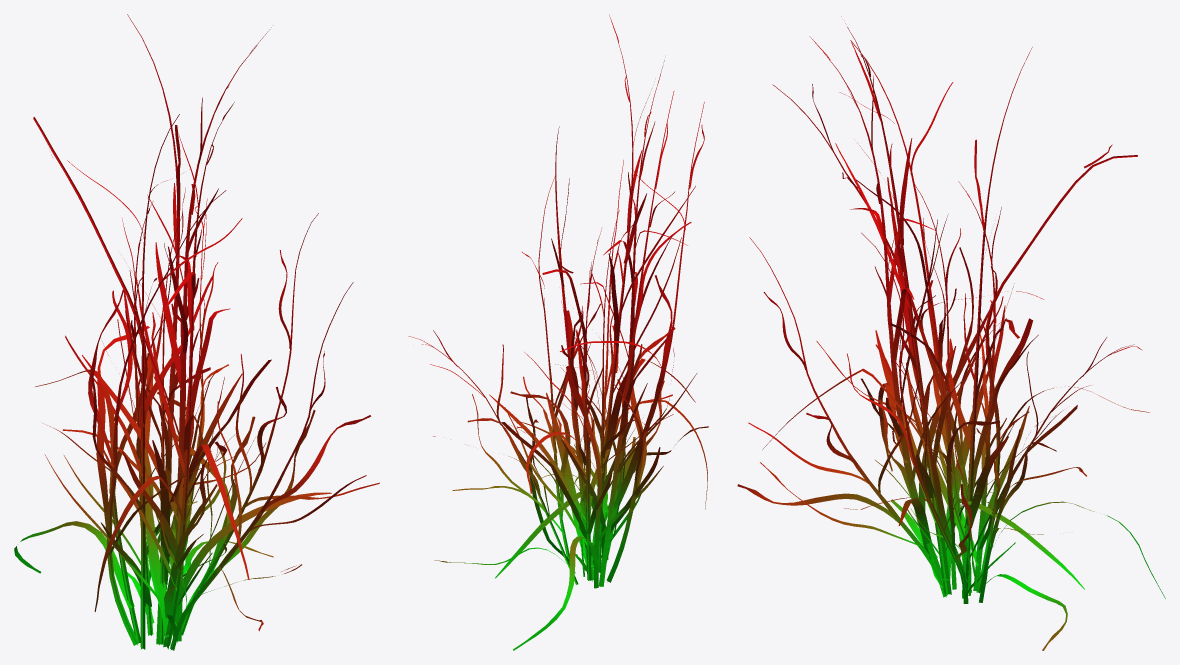
Rendered from Swamp Grass_LOD1_Var2_tefocd1r.fbx.
The picture shows the model from 3 angles, left to right: view 1: azimuth 30°, elevation 25°; view 2: azimuth 150°, elevation 25°; view 3: azimuth 270°, elevation 25°; orthographic projection. The views are drawn at different scales.
Visible parts, largest first — view 1: merge1; view 2: merge1; view 3: merge1.
Part boxes in pixels (<box>): merge1: <box>14,14,379,650</box>; merge1: <box>408,14,708,650</box>; merge1: <box>737,16,1165,650</box>.
Size of the model in its own units: 38.95 by 92.22 by 58.63.
